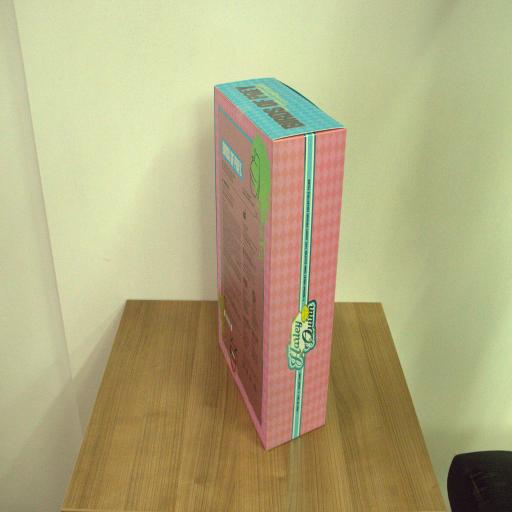Harley: (214, 77, 347, 453)
